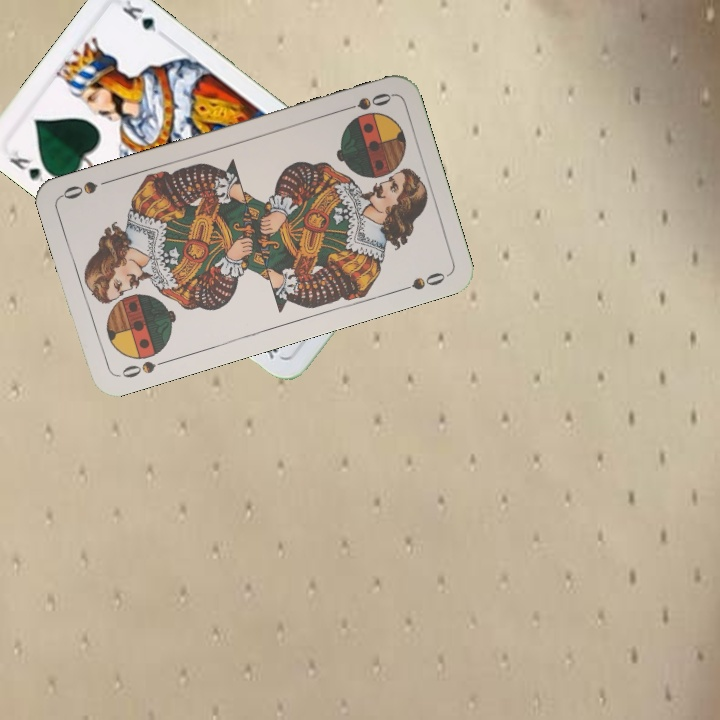GK: (5, 146, 48, 185)
SO: (336, 88, 395, 115), (114, 355, 172, 381)
